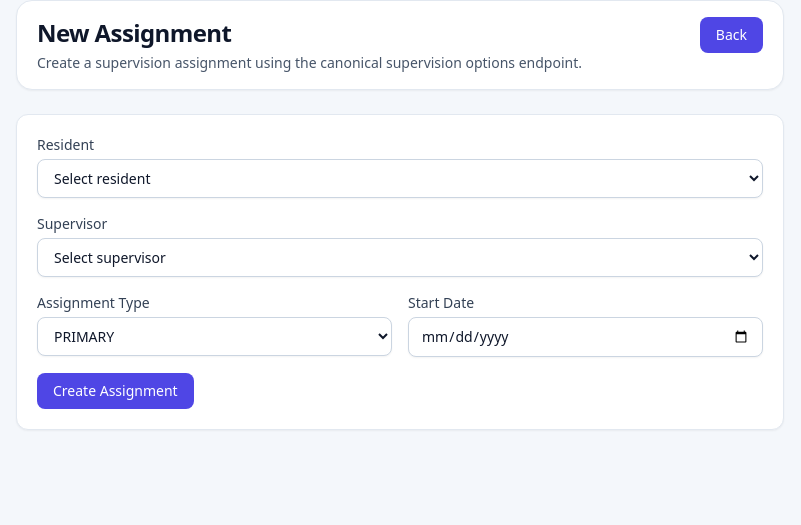
supervision assignment pages › creates a selected assignment and resets the form
The width and height of the screenshot is (801, 525).
Select "Resident One (pgr001)" in the dropdown labelled "Resident" at [400, 178], box [37, 159, 763, 198]
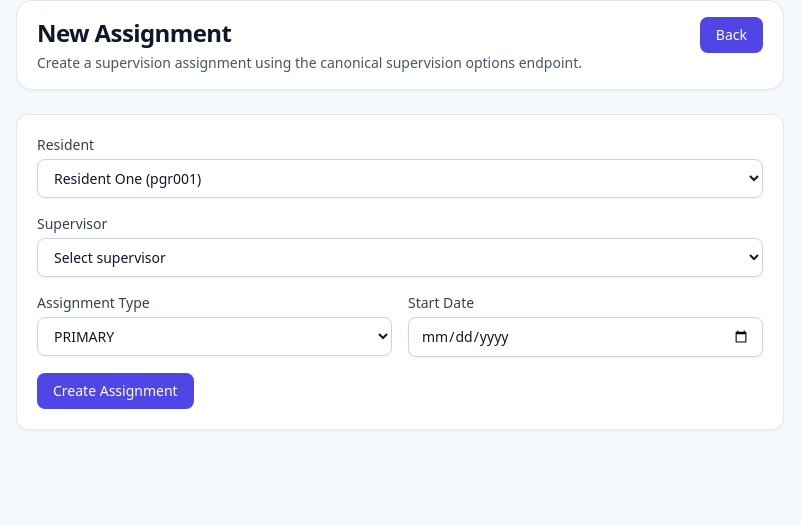
Select "Dr One (sup001)" in the dropdown labelled "Supervisor" at [400, 258], box [37, 238, 763, 277]
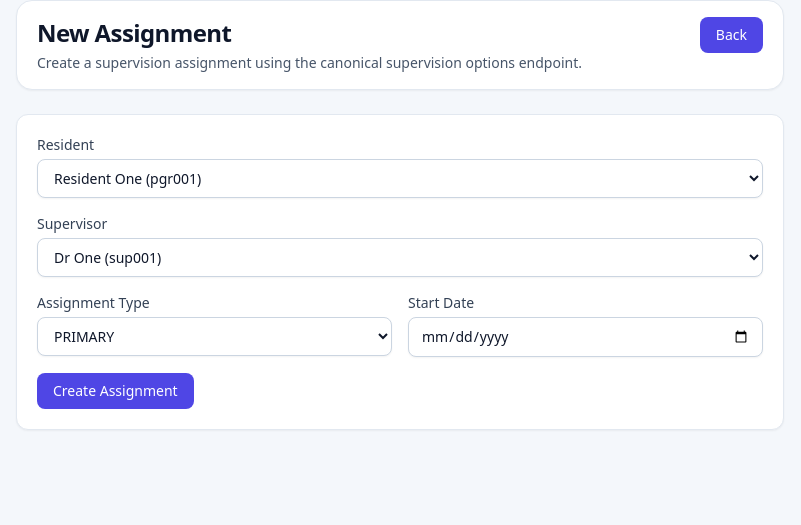
Select "CO_SUPERVISOR" in the dropdown labelled "Assignment Type" at [214, 336], box [37, 317, 392, 356]
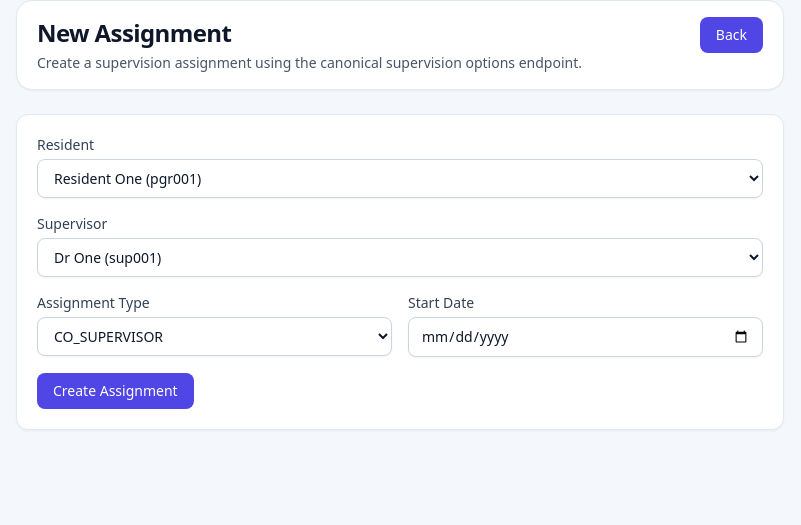
Type "2026-09-01" into the date field labelled "Start Date" at [586, 337], box [408, 317, 763, 357]
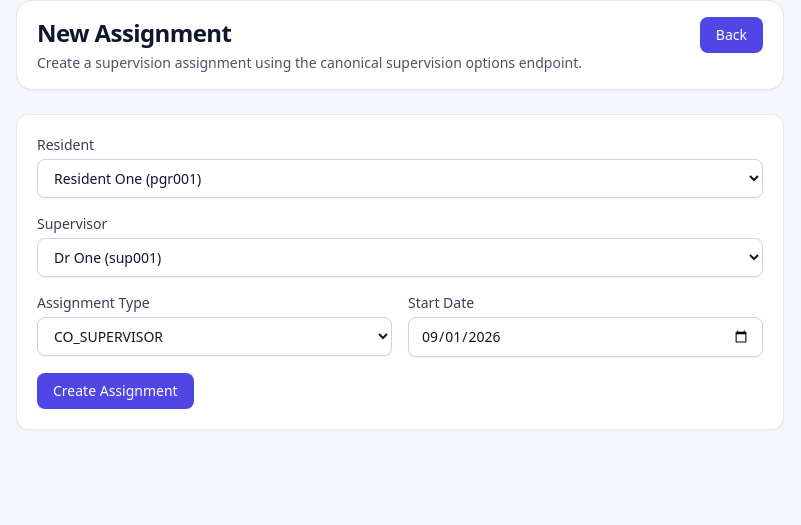
Click the button "Create Assignment" at [115, 391], box [37, 373, 194, 409]
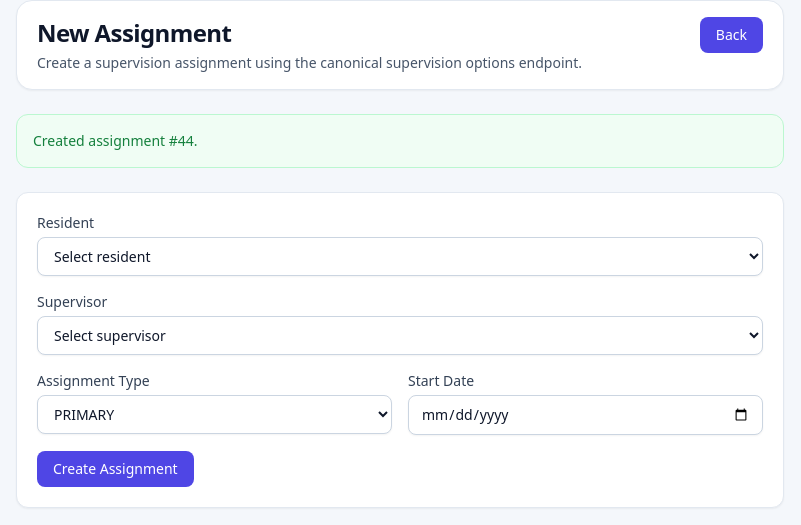
Result: the text "Created assignment #44." is shown at [16, 114, 784, 168]
